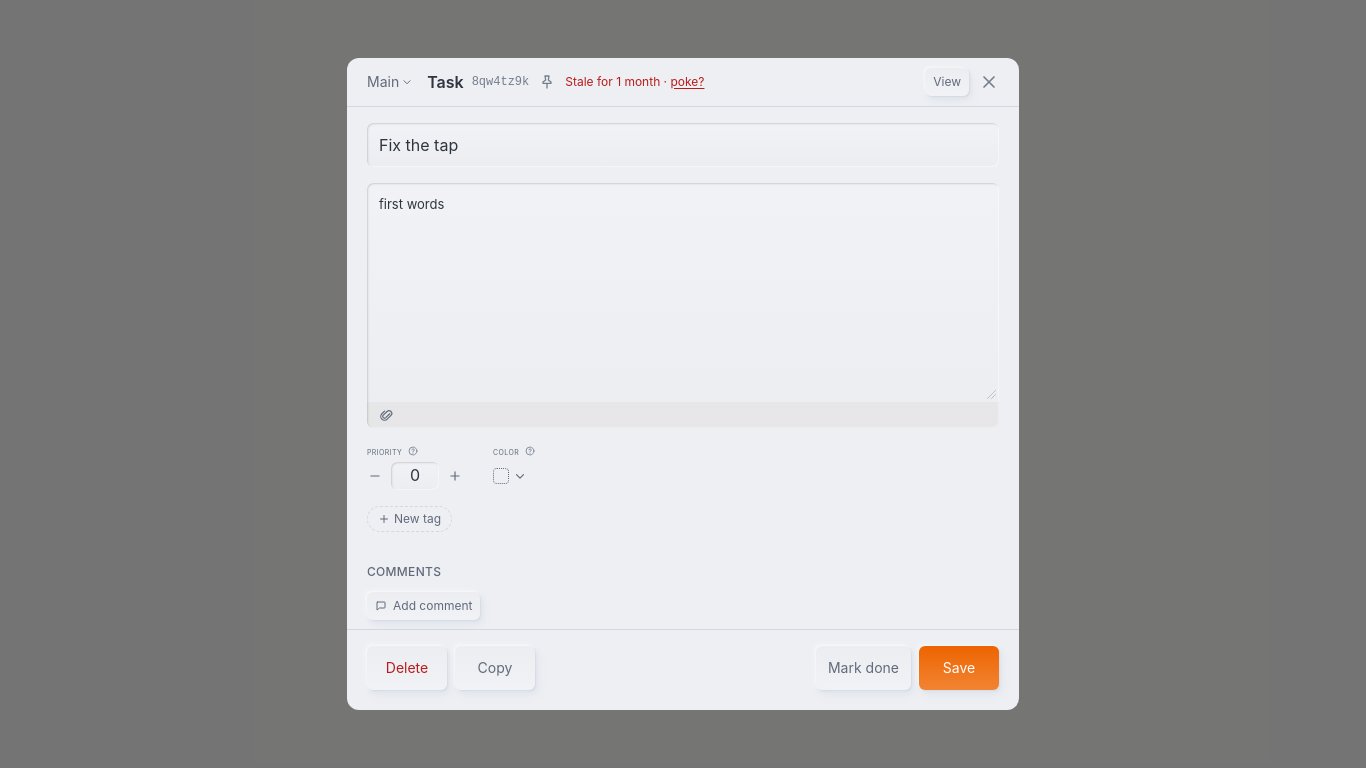
Test: reading the task › holds the words steady, and offers the newer text as a button
Click the button "View".
click(947, 82)  # box [925,68,969,96]
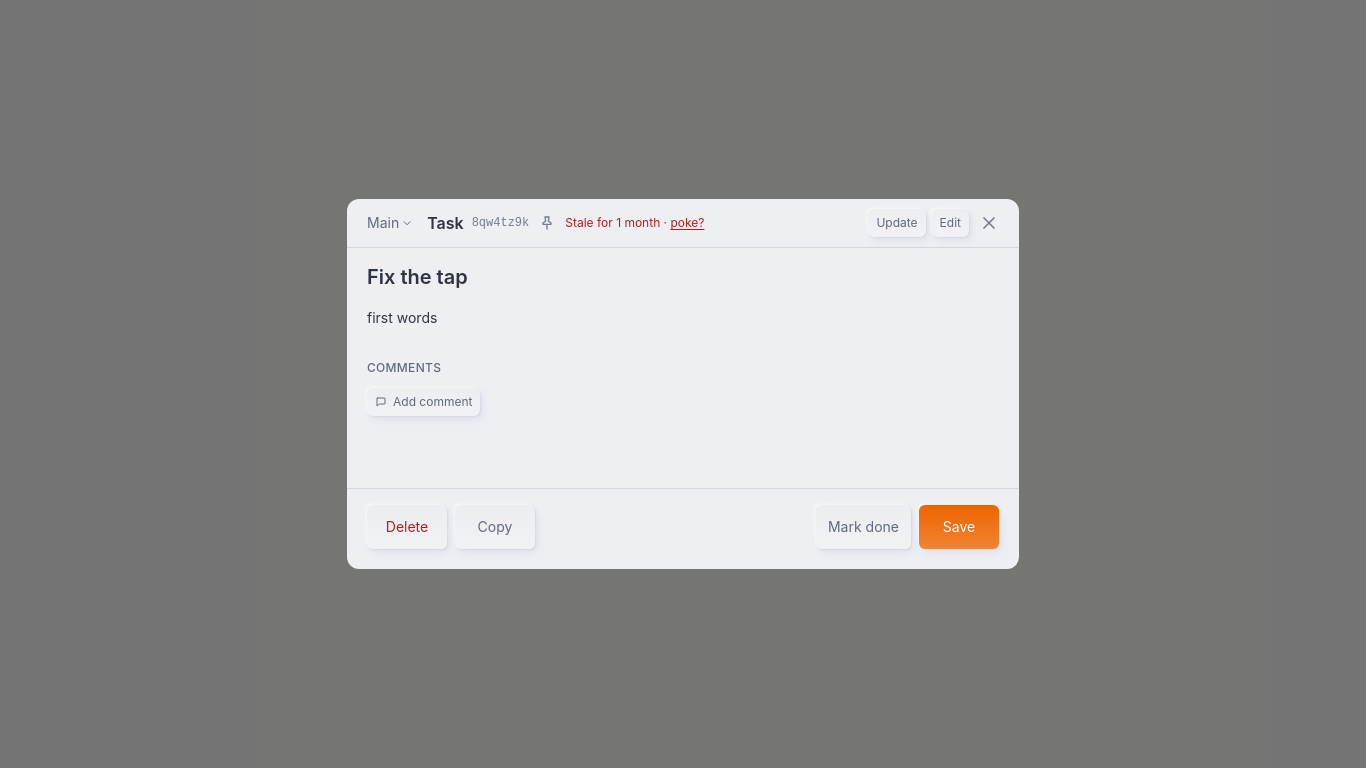
Now the button "Update" is shown
Now the text "first words" is shown, box [367,308,437,326]
Click the button "Update".
click(897, 223)  # box [868,209,926,237]
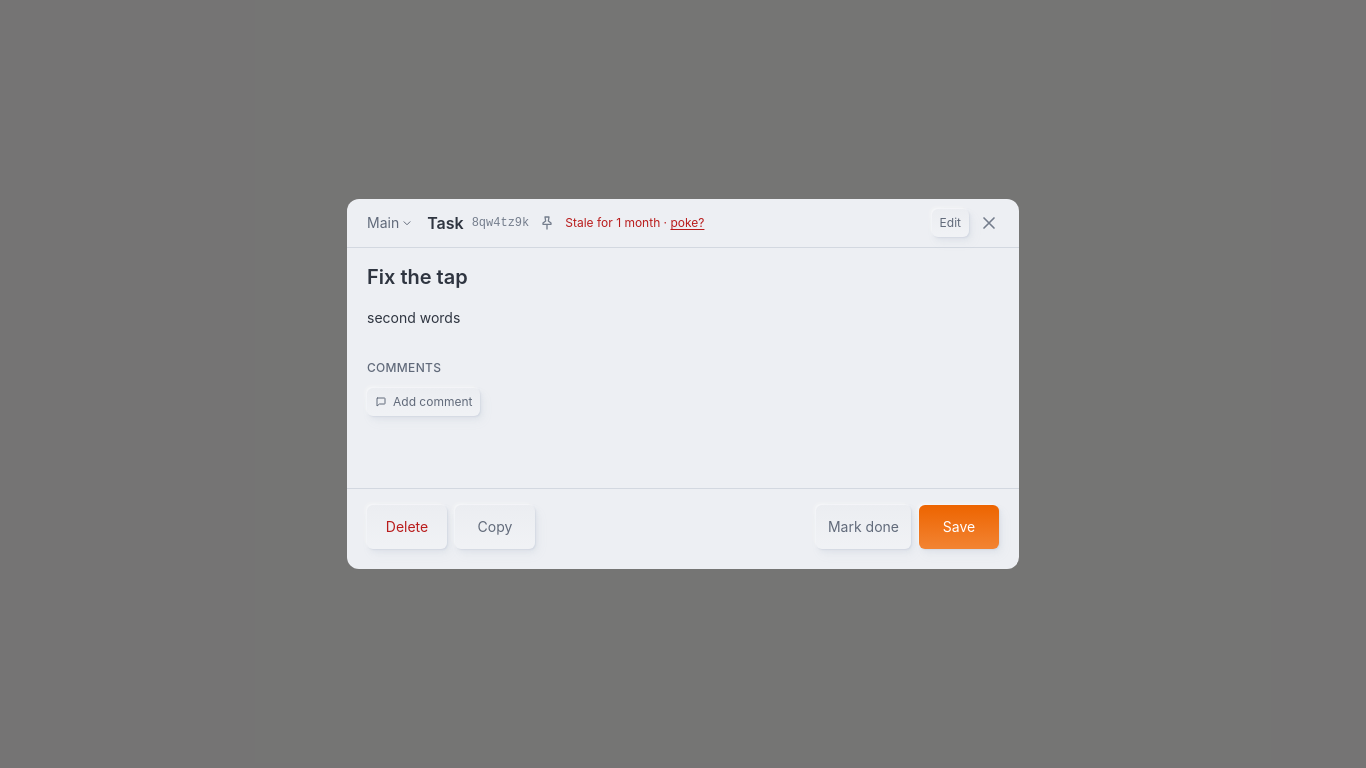
Now the text "second words" is shown, box [367,308,460,326]
